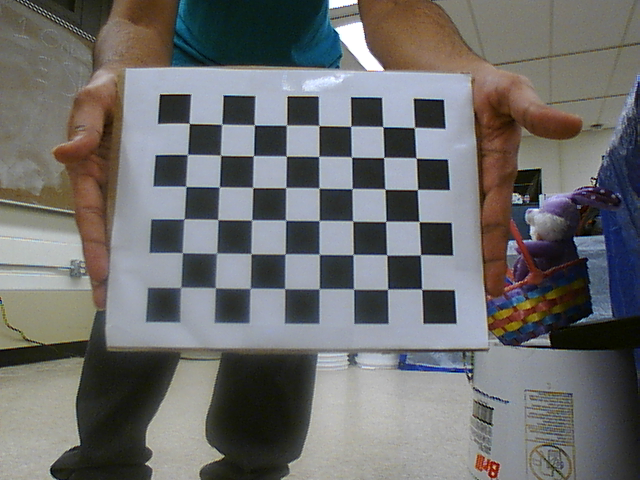bunny: (493, 191, 612, 339)
